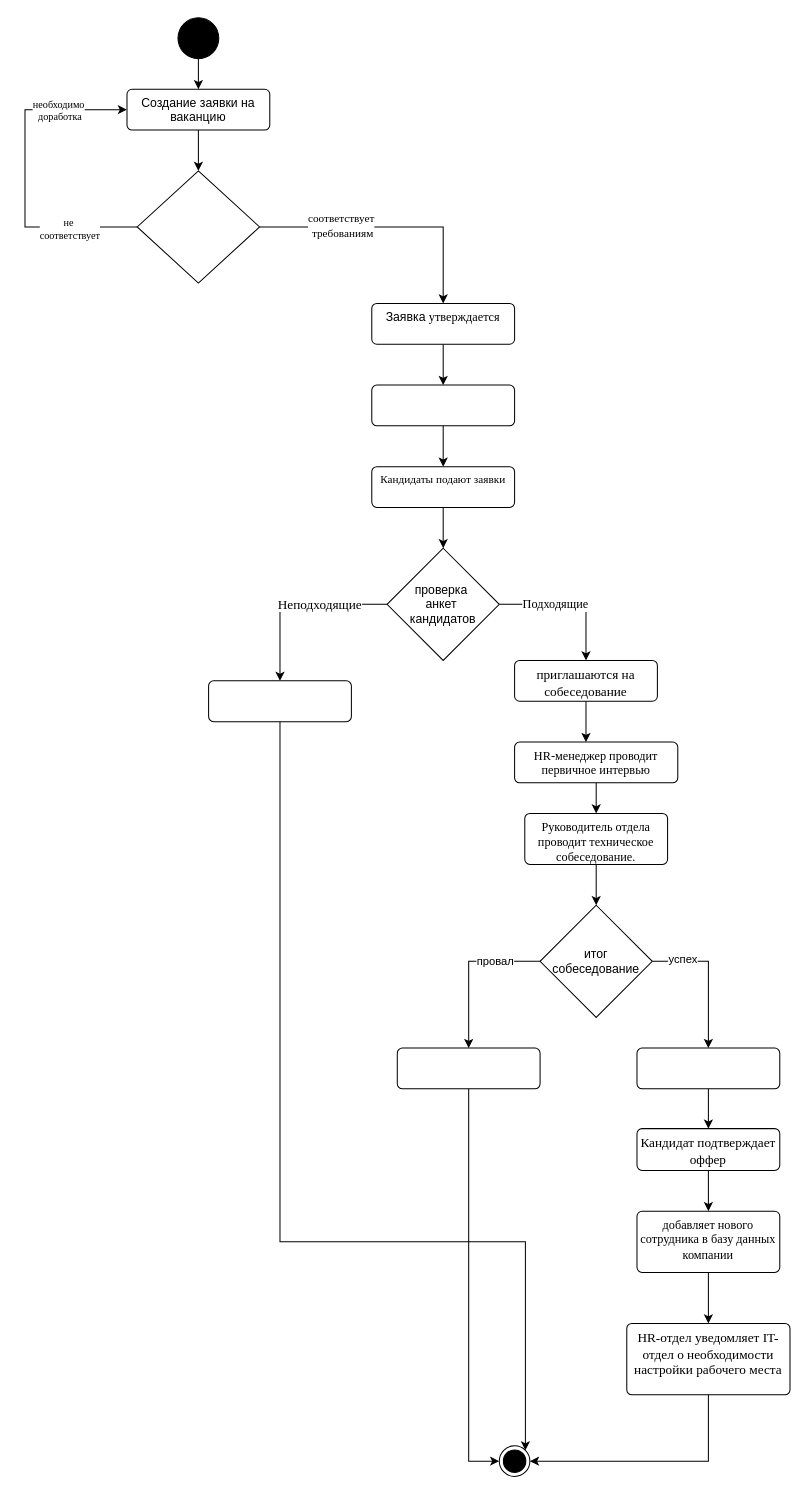
The diagram is 808 pixels wide and 1494 high, and some of its shapes have lost their labels. The shapes that lost their labels are listed below. From the top down, each one's centre as x and y in pixels, then its label:
At pixel 198 226: "проверка HR отделом".
At pixel 443 405: "публикуется на сайте компании".
At pixel 279 701: "отклоняются".
At pixel 468 1068: "кандидат получает уведомление об отказе".
At pixel 708 1068: "кандидату предлагается оффер".
